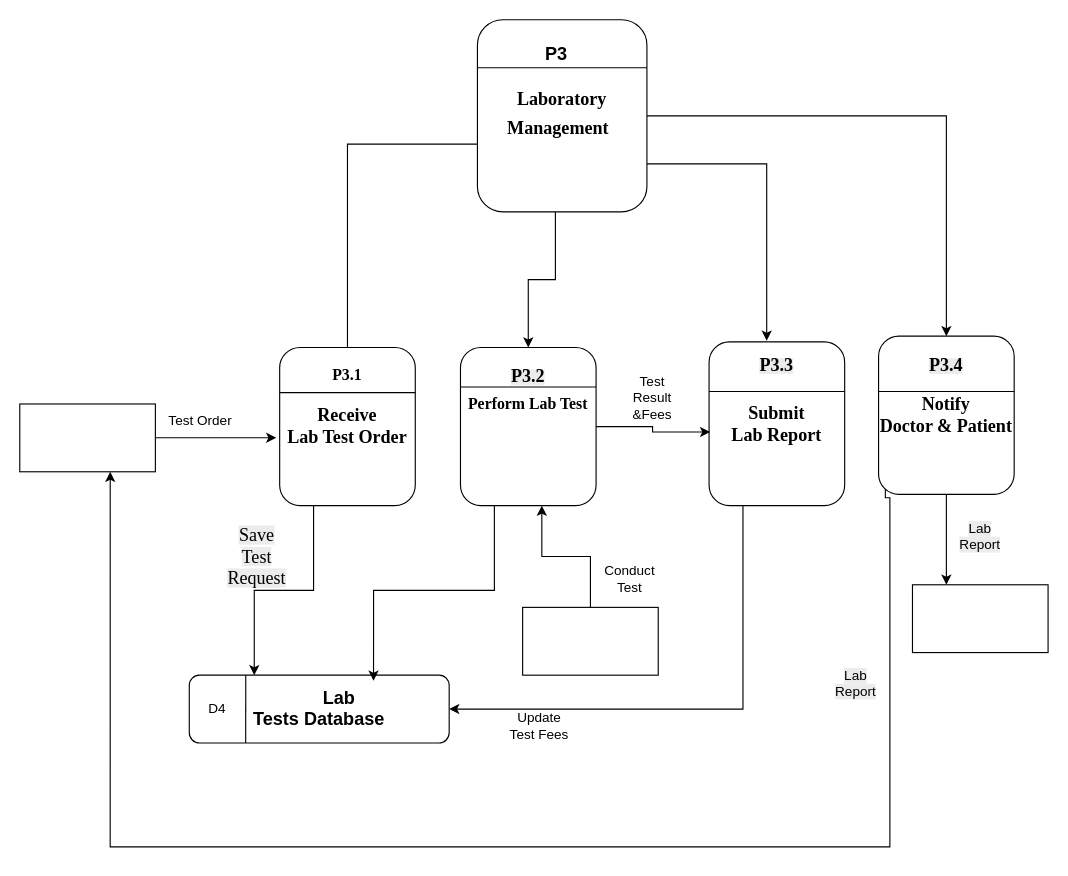
Image size: 1068x876. Some labels were removed from this diagram. Each missing label, with the centre of its shape:
"Doctor" belongs at point (87, 437).
"Lab Technician" belongs at point (589, 640).
"Patient" belongs at point (979, 618).
